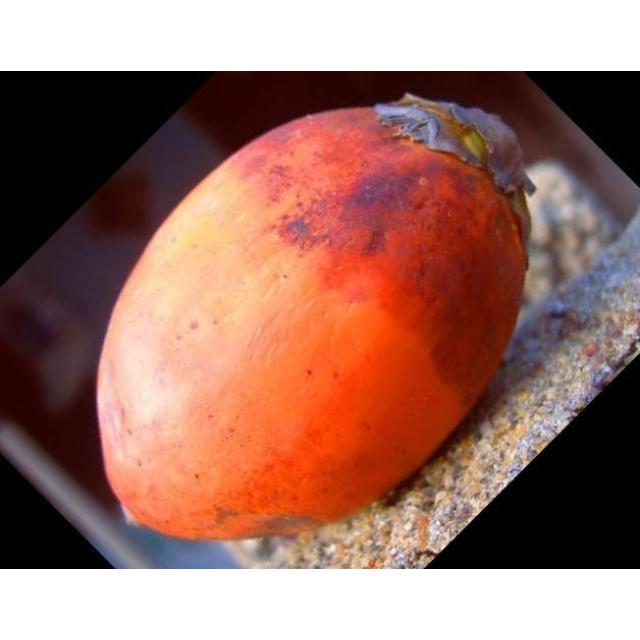good: (94, 94, 533, 544)
